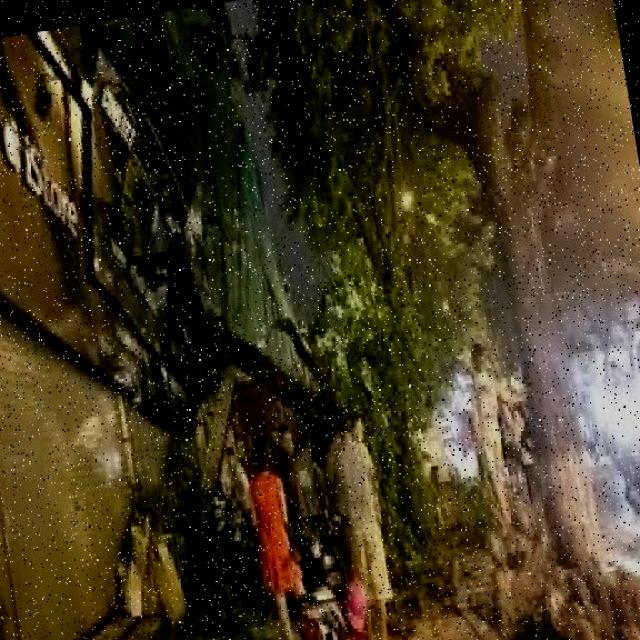fallen_object: (143, 199, 517, 602)
